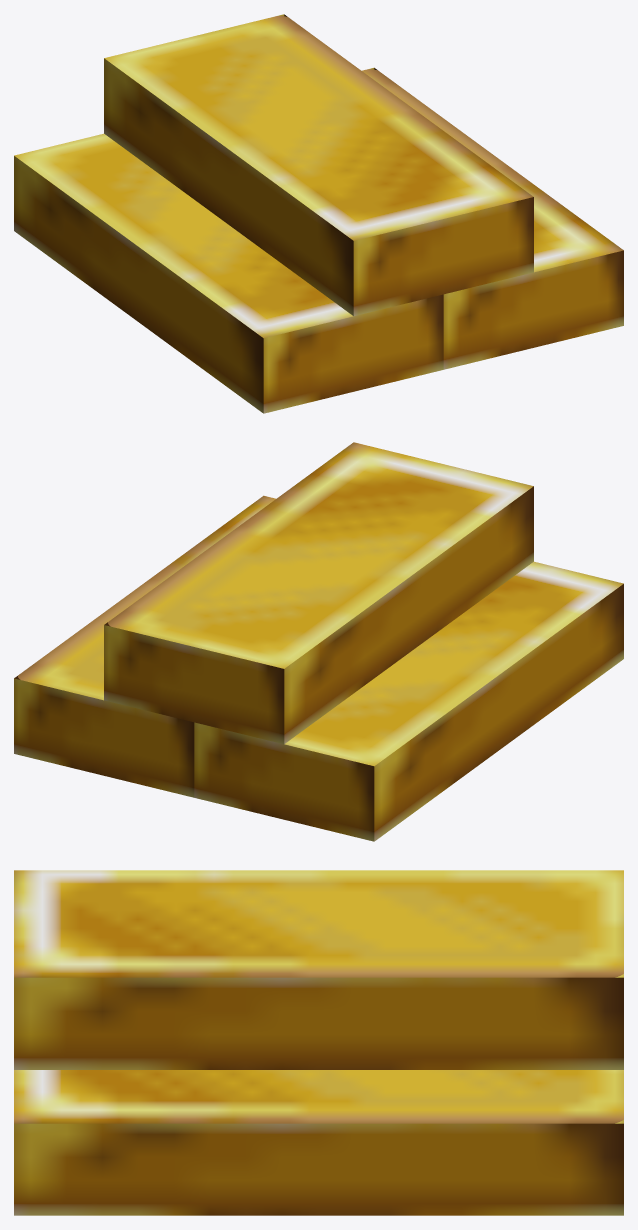
File: goldbars.obj
3 views of the same model, one above another, from view 1: azimuth 30°, elevation 25°; view 2: azimuth 150°, elevation 25°; view 3: azimuth 270°, elevation 25° (orthographic). The views are drawn at different scales.
Parts seen in each view (by area): view 1: cube; view 2: cube; view 3: cube.
Part boxes in pixels (x1,y1,x2,y2): cube: (14, 14, 623, 413); cube: (14, 442, 623, 841); cube: (14, 870, 623, 1215).
Size of the model in its own units: 0.625 by 0.25 by 0.75.
Materials: 1 (1 with a texture image).
